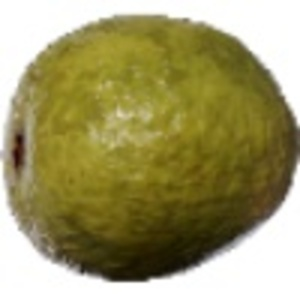goiaba: (3, 11, 296, 285)
